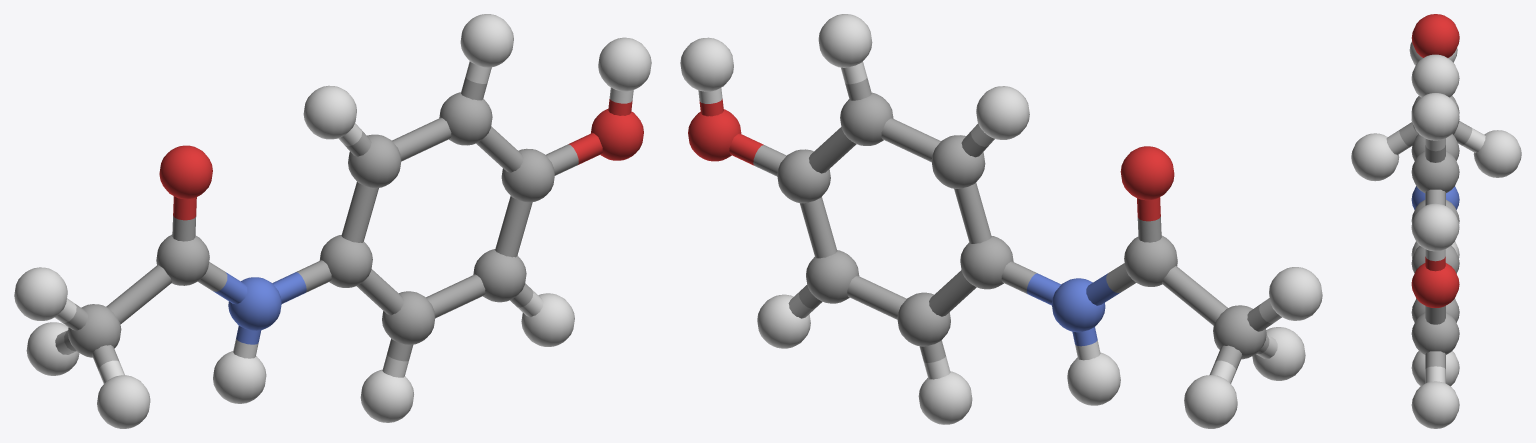
Rendered from paracetamol-bas.glb.
3 renders of one model, left to right at view 1: azimuth 30°, elevation 25°; view 2: azimuth 150°, elevation 25°; view 3: azimuth 270°, elevation 25°, orthographic. The views are drawn at different scales.
Visible parts, largest first — view 1: paracetamol-bas; view 2: paracetamol-bas; view 3: paracetamol-bas.
Part boxes in pixels (x1=…): paracetamol-bas: x1=14, y1=14, x2=651, y2=428; paracetamol-bas: x1=680, y1=14, x2=1322, y2=428; paracetamol-bas: x1=1351, y1=14, x2=1521, y2=428.
Size of the model in its own units: 9.46 by 5.43 by 2.49.
